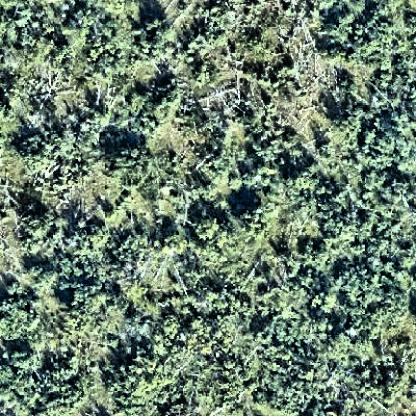tree-top: (113, 353, 173, 416), (330, 261, 392, 314), (43, 124, 105, 176), (357, 112, 412, 169), (104, 139, 146, 191), (357, 359, 400, 401), (70, 282, 117, 320), (2, 298, 40, 343), (8, 131, 48, 170), (235, 197, 273, 236), (88, 45, 126, 79), (115, 139, 149, 171), (296, 237, 330, 269), (151, 82, 183, 115), (190, 214, 223, 245), (21, 209, 54, 239), (47, 354, 76, 384), (10, 346, 39, 371), (352, 334, 378, 361), (128, 86, 155, 111), (142, 12, 170, 36), (321, 43, 349, 65), (91, 106, 112, 127), (103, 206, 123, 226), (207, 1, 228, 20), (253, 390, 273, 408), (255, 324, 274, 342), (229, 174, 246, 192), (281, 61, 299, 77), (307, 403, 325, 415)
